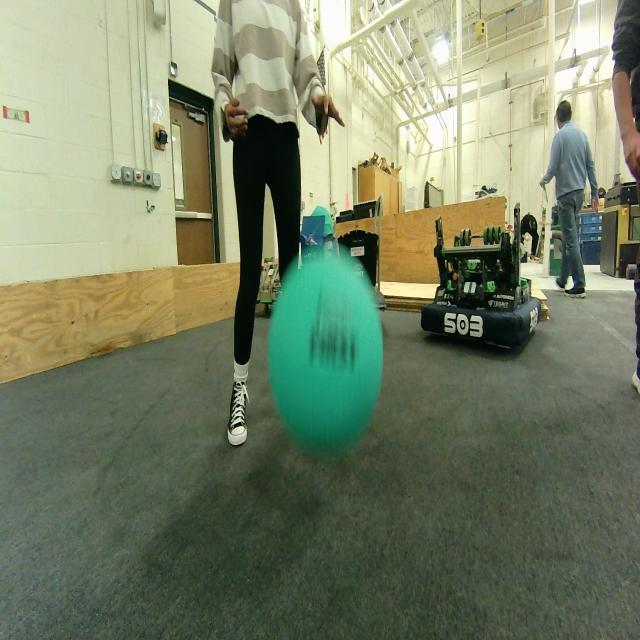algae: (261, 243, 390, 465)
